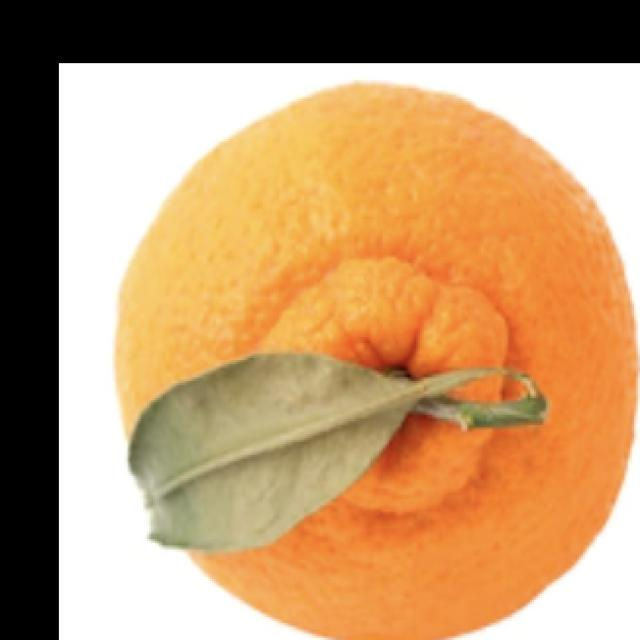orange: (111, 73, 640, 636)
